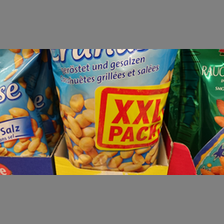nuts: (50, 49, 179, 172)
